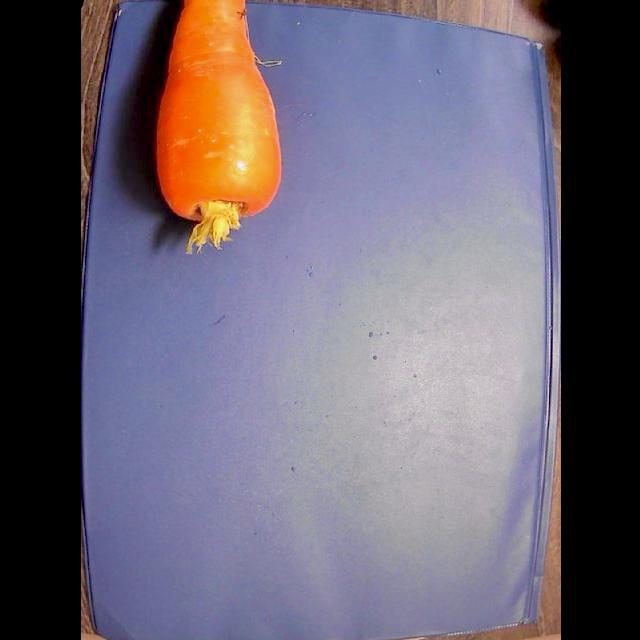zanahoria: (157, 1, 281, 253)
